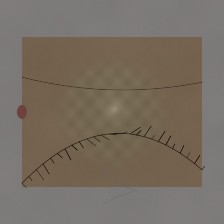foreign_body_visible: (55, 112, 100, 148)
